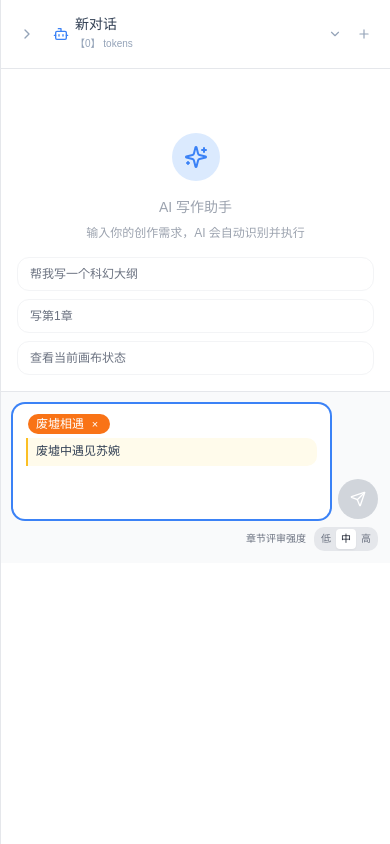
Test: AgentChat context quote › removes the context pill and its quote together
This screenshot has width=390, height=844.
Click the button named "移除上下文 废墟相遇" at (95, 424), box [92, 418, 98, 430]
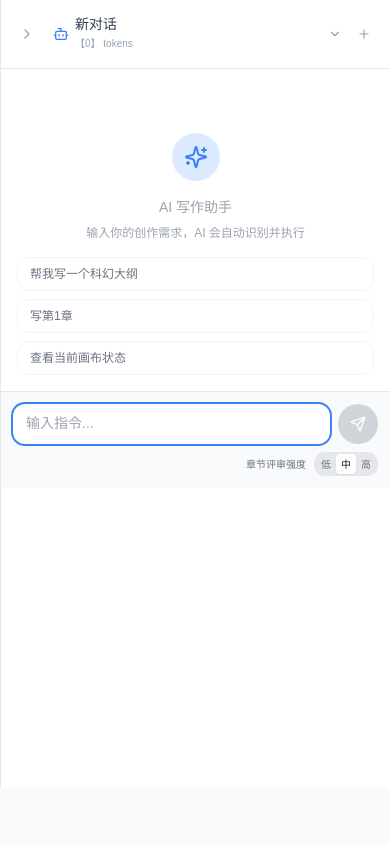
Expected: the button named "发送" is disabled, [338, 404, 378, 444]
Now the text "废墟相遇" is gone
Now the text "废墟中遇见苏婉" is gone
